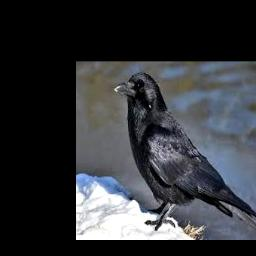Crow: (114, 72, 256, 234)
